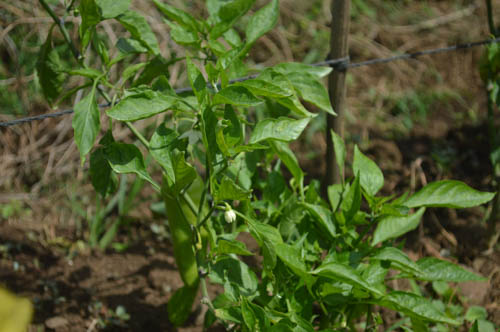ChiliPepper: (160, 176, 200, 283), (177, 165, 218, 255)
